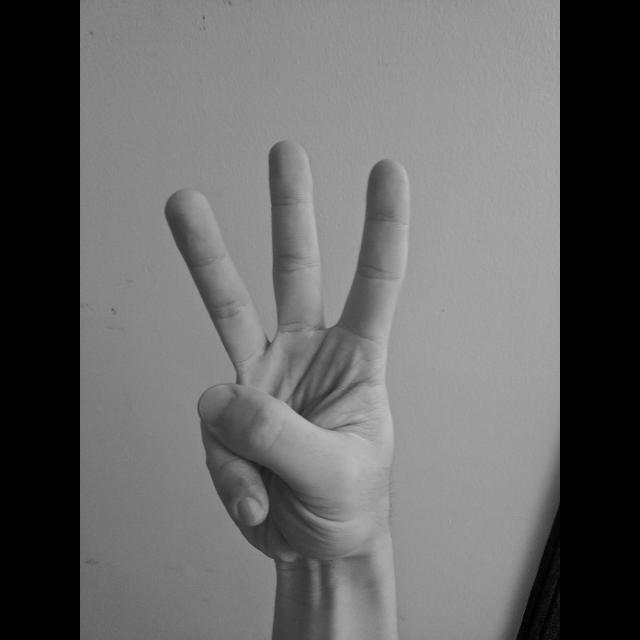W: (162, 136, 412, 570)
